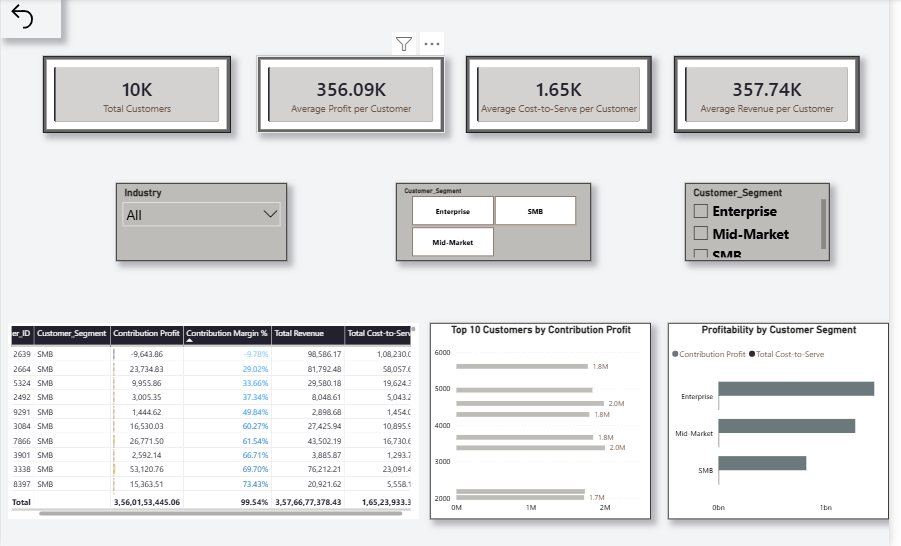

The dashboard page shown, as its layout file describes it:
{"tool":"powerbi","page":{"name":" Customer Profitability","canvas":[1480,920],"ordinal":1},"visuals":[{"type":"cardVisual","fields":{"Data":["rpt vw_Cost_to_Serve.Total Customers"]},"box":[70,101.7,312.5,128.3],"z":0},{"type":"cardVisual","fields":{"Data":["rpt vw_Customer_Profitability.Average Revenue per Customer"]},"box":[1121.7,101.7,308.9,128.3],"z":1000},{"type":"cardVisual","fields":{"Data":["rpt vw_Customer_Profitability.Average Profit per Customer"]},"box":[426.7,101.7,312.5,128.3],"z":2000},{"type":"cardVisual","fields":{"Data":["rpt vw_Customer_Profitability.Average Cost-to-Serve per Customer"]},"box":[775,101.7,308.9,128.3],"z":3000},{"type":"clusteredBarChart","title":"Profitability by Customer Segment","fields":{"Category":["rpt vw_Customer_Profitability.Customer_Segment"],"Y":["rpt vw_Cost_to_Serve.Contribution Profit","rpt vw_Cost_to_Serve.Total Cost-to-Serve"]},"box":[1111.7,546.7,368.3,326.7],"z":4000},{"type":"barChart","title":"Top 10 Customers by Contribution Profit","fields":{"Category":["rpt vw_Customer_Profitability.Customer_ID"],"Y":["rpt vw_Cost_to_Serve.Contribution Profit"]},"box":[715,546.7,368.3,326.7],"z":5000},{"type":"tableEx","fields":{"Values":["rpt vw_Customer_Profitability.Customer_ID","rpt vw_Customer_Profitability.Customer_Segment","rpt vw_Cost_to_Serve.Contribution Profit","rpt vw_Cost_to_Serve.Contribution Margin %","rpt vw_Cost_to_Serve.Total Revenue","rpt vw_Cost_to_Serve.Total Cost-to-Serve"]},"box":[11.7,546.7,685,326.7],"z":6000},{"type":"actionButton","box":[0,0,100,71.7],"z":7000},{"type":"slicer","fields":{"Values":["rpt vw_Customer_Profitability.Industry"]},"box":[191.7,313.3,285.4,130.1],"z":8000},{"type":"slicer","fields":{"Values":["rpt vw_Customer_Profitability.Customer_Segment"]},"box":[1140,313.3,240.6,130.4],"z":9000},{"type":"slicer","fields":{"Values":["rpt vw_Customer_Profitability.Customer_Segment"]},"box":[658.3,313.3,325.2,130.1],"z":10000}]}

Visuals, with their boxes in screenshot pixels (x1, y1, x2, y2):
cardVisual - rpt vw_Cost_to_Serve.Total Customers: (x1=33, y1=52, x2=223, y2=130)
cardVisual - rpt vw_Customer_Profitability.Average Revenue per Customer: (x1=672, y1=52, x2=860, y2=130)
cardVisual - rpt vw_Customer_Profitability.Average Profit per Customer: (x1=250, y1=52, x2=440, y2=130)
cardVisual - rpt vw_Customer_Profitability.Average Cost-to-Serve per Customer: (x1=461, y1=52, x2=649, y2=130)
"Profitability by Customer Segment" clusteredBarChart: (x1=666, y1=323, x2=890, y2=521)
"Top 10 Customers by Contribution Profit" barChart: (x1=425, y1=323, x2=649, y2=521)
tableEx - rpt vw_Customer_Profitability.Customer_ID x rpt vw_Customer_Profitability.Customer_Segment: (x1=0, y1=323, x2=414, y2=521)
actionButton: (x1=0, y1=0, x2=51, y2=34)
slicer - rpt vw_Customer_Profitability.Industry: (x1=107, y1=181, x2=280, y2=260)
slicer - rpt vw_Customer_Profitability.Customer_Segment: (x1=683, y1=181, x2=829, y2=260)
slicer - rpt vw_Customer_Profitability.Customer_Segment: (x1=391, y1=181, x2=588, y2=260)
